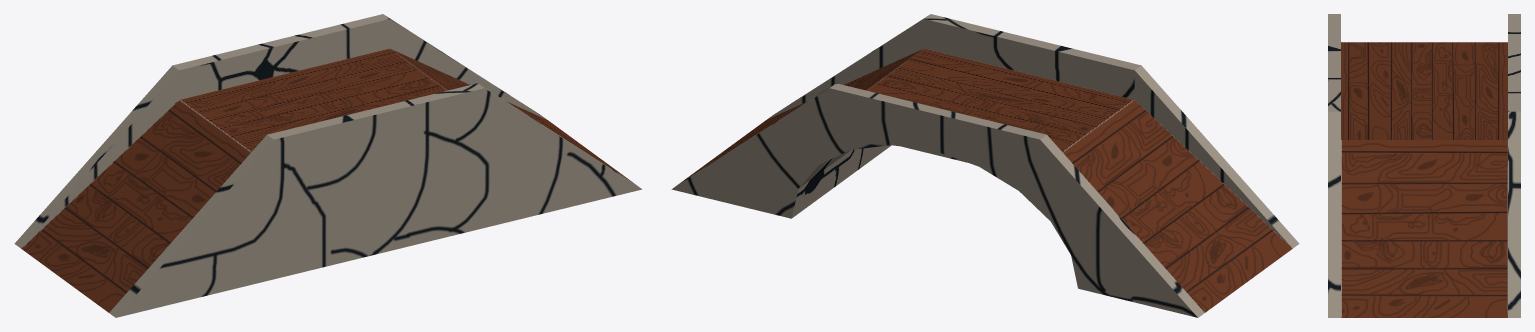
Rendered from villagebridge.fbx.
The picture shows the model from 3 angles, left to right: view 1: azimuth 30°, elevation 25°; view 2: azimuth 150°, elevation 25°; view 3: azimuth 270°, elevation 25°; orthographic projection. The views are drawn at different scales.
Parts seen in each view (by area): view 1: pCube2; view 2: pCube2; view 3: pCube2.
Part boxes in pixels (x1=…): pCube2: x1=14, y1=14, x2=642, y2=317; pCube2: x1=671, y1=14, x2=1299, y2=317; pCube2: x1=1328, y1=14, x2=1520, y2=317.
Bounding box in the file's own units: 15 × 3.8 × 5.
